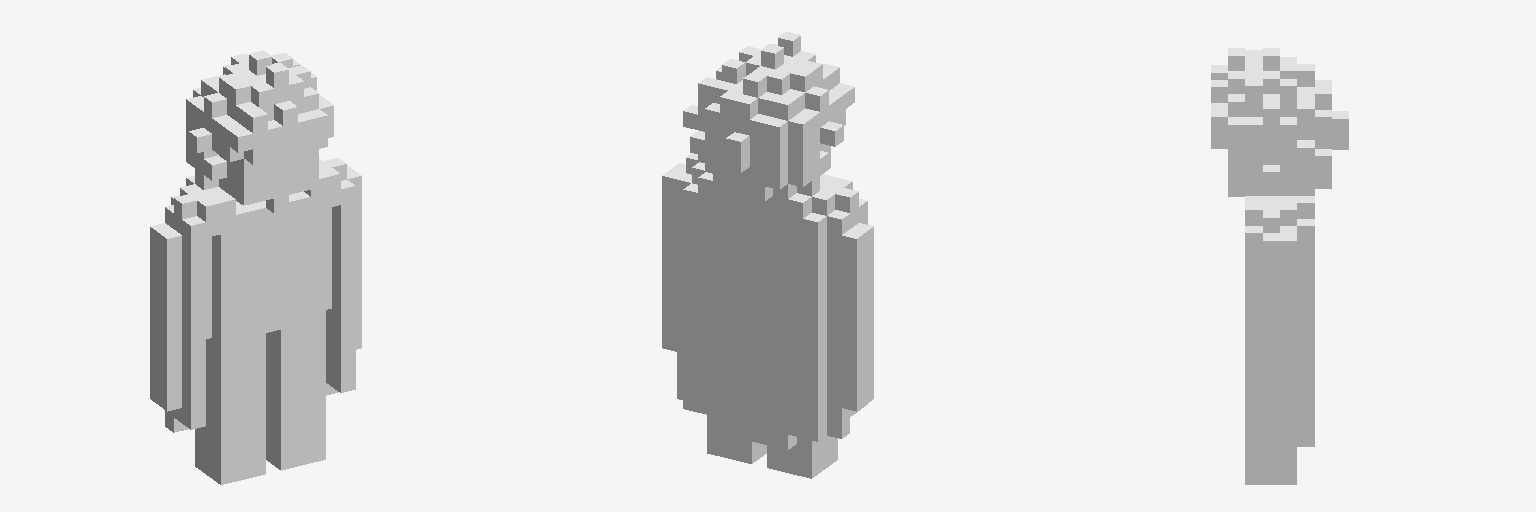
The model's file is CliSci.obj.
The picture shows the model from 3 angles: view 1: azimuth 30°, elevation 25°; view 2: azimuth 150°, elevation 25°; view 3: azimuth 270°, elevation 25°; orthographic projection.
Parts seen in each view (by area): view 1: object 1; view 2: object 1; view 3: object 1.
Boxes of the visible parts, x1,y1,x2,y2 form: object 1: [150, 50, 361, 484]; object 1: [662, 31, 873, 478]; object 1: [1211, 48, 1348, 484].
Size of the model in its own units: 1.3 by 2.6 by 0.8.